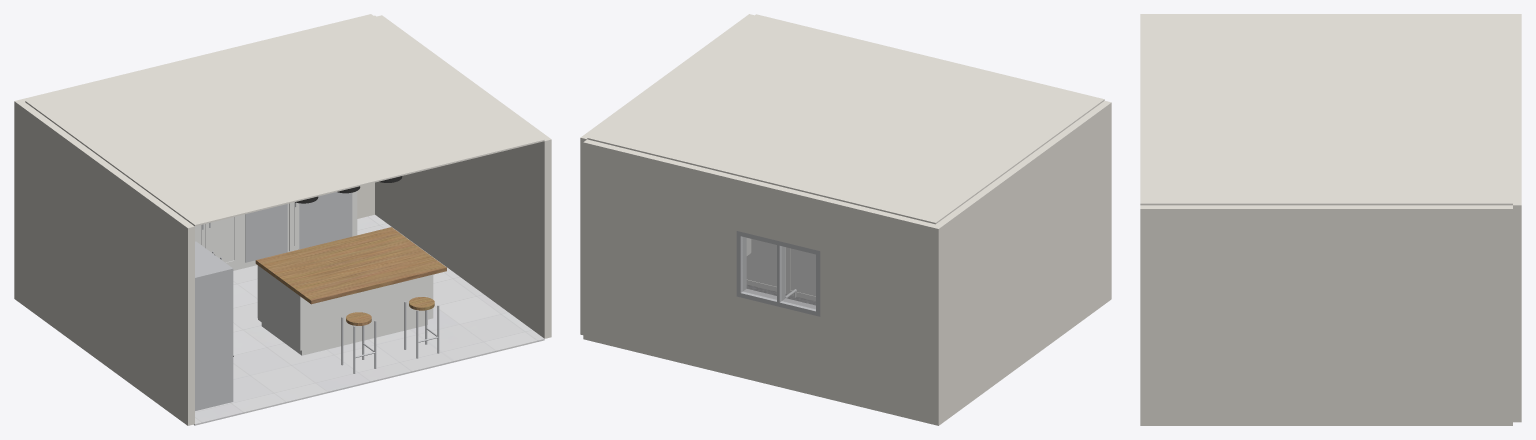
The model's file is kitchen.glb.
3 renders of one model, left to right at view 1: azimuth 30°, elevation 25°; view 2: azimuth 150°, elevation 25°; view 3: azimuth 270°, elevation 25°, orthographic. The views are drawn at different scales.
Parts seen in each view (by area): view 1: ROOM_ceiling, ROOM_wall_left, ROOM_wall_right, ROOM_floor, ISL_top, ISL_body, APP_fridge, APP_range, APP_dishwasher, ROOM_wall_back_L, CAB_base_back_door_m0.75_1, ROOM_wall_back_R (+2 smaller); view 2: ROOM_ceiling, ROOM_wall_left, ROOM_wall_back_R, ROOM_wall_back_L, ROOM_wall_back_below, ROOM_wall_back_above, WIN_glass, ROOM_wall_right, ISL_door_2, ISL_door_1, WIN_frame_bottom, WIN_frame_right (+1 smaller); view 3: ROOM_wall_right, ROOM_ceiling, ROOM_wall_back_R, ROOM_wall_left, ROOM_wall_back_L, ROOM_wall_back_above.
Boxes of the visible parts, bbox=[...] form: ROOM_ceiling: bbox=[25, 15, 544, 226]; ROOM_wall_left: bbox=[18, 102, 194, 425]; ROOM_wall_right: bbox=[375, 15, 551, 338]; ROOM_floor: bbox=[194, 215, 544, 425]; ISL_top: bbox=[255, 227, 446, 304]; ISL_body: bbox=[258, 265, 433, 350]; APP_fridge: bbox=[195, 241, 233, 410]; APP_range: bbox=[299, 192, 352, 249]; APP_dishwasher: bbox=[245, 204, 287, 262]; ROOM_wall_back_L: bbox=[14, 72, 135, 301]; CAB_base_back_door_m0.75_1: bbox=[205, 216, 238, 265]; ROOM_wall_back_R: bbox=[217, 14, 374, 218]; ROOM_ceiling: bbox=[587, 14, 1104, 224]; ROOM_wall_left: bbox=[936, 101, 1111, 422]; ROOM_wall_back_R: bbox=[583, 139, 740, 376]; ROOM_wall_back_L: bbox=[820, 197, 942, 425]; ROOM_wall_back_below: bbox=[736, 296, 820, 396]; ROOM_wall_back_above: bbox=[736, 177, 823, 250]; WIN_glass: bbox=[743, 237, 815, 309]; ROOM_wall_right: bbox=[580, 14, 754, 334]; ISL_door_2: bbox=[746, 239, 785, 292]; ISL_door_1: bbox=[786, 247, 815, 300]; WIN_frame_bottom: bbox=[736, 289, 820, 316]; WIN_frame_right: bbox=[736, 235, 746, 292]; ROOM_wall_right: bbox=[1140, 205, 1512, 425]; ROOM_ceiling: bbox=[1140, 16, 1512, 205]; ROOM_wall_back_R: bbox=[1513, 122, 1521, 422]; ROOM_wall_left: bbox=[1140, 14, 1512, 15]; ROOM_wall_back_L: bbox=[1513, 14, 1521, 77]; ROOM_wall_back_above: bbox=[1513, 77, 1521, 122].
Size of the model in its own units: 5.2 by 2.74 by 4.3.
10 materials, 4 textured.
